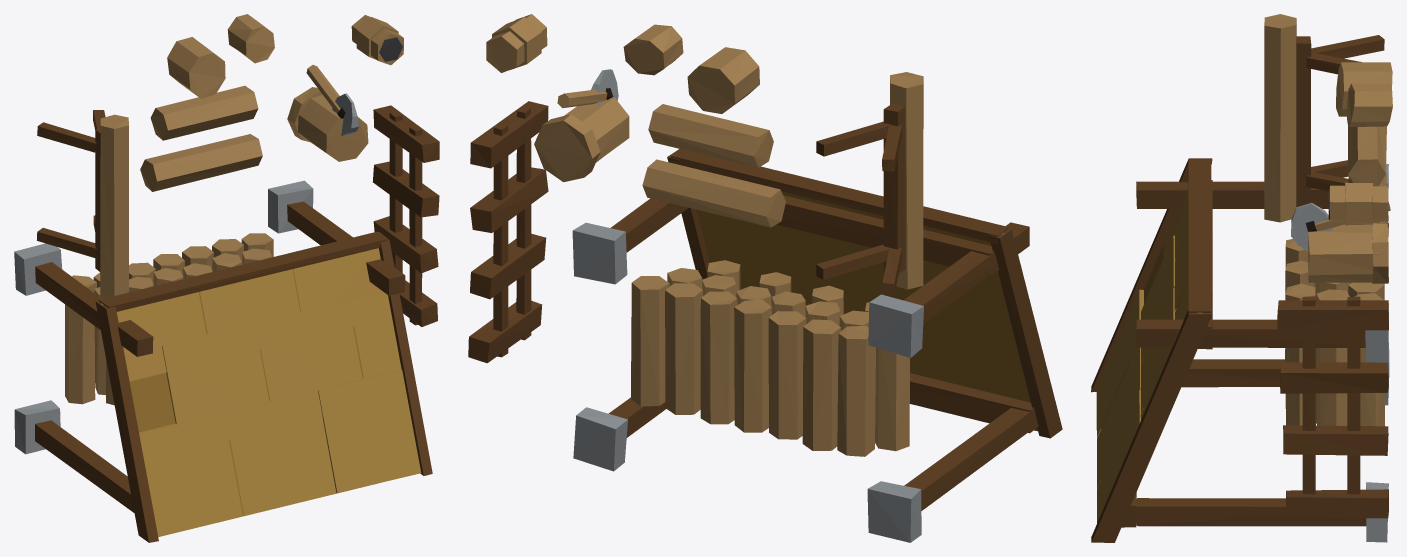
3 renders of one model, left to right at view 1: azimuth 30°, elevation 25°; view 2: azimuth 150°, elevation 25°; view 3: azimuth 270°, elevation 25°, orthographic. The views are drawn at different scales.
Visible parts, largest first — view 1: lc_building; view 2: lc_building; view 3: lc_building.
Boxes of the visible parts, x1=… form: lc_building: x1=14, y1=14, x2=439, y2=542; lc_building: x1=468, y1=14, x2=1062, y2=542; lc_building: x1=1091, y1=14, x2=1392, y2=542.
Size of the model in its own units: 2.86 by 2.72 by 1.75.
